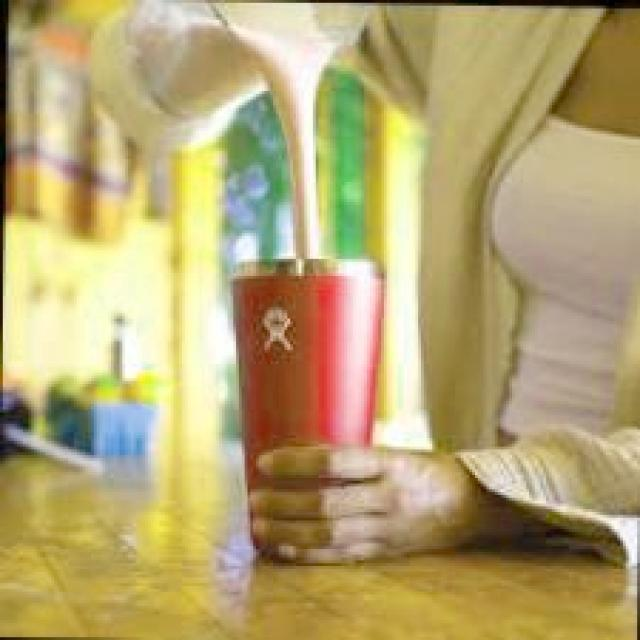bottle: (220, 249, 388, 442)
